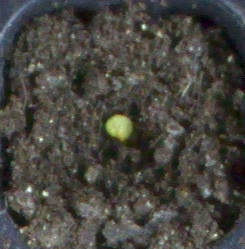chilli seed: (105, 114, 133, 139)
